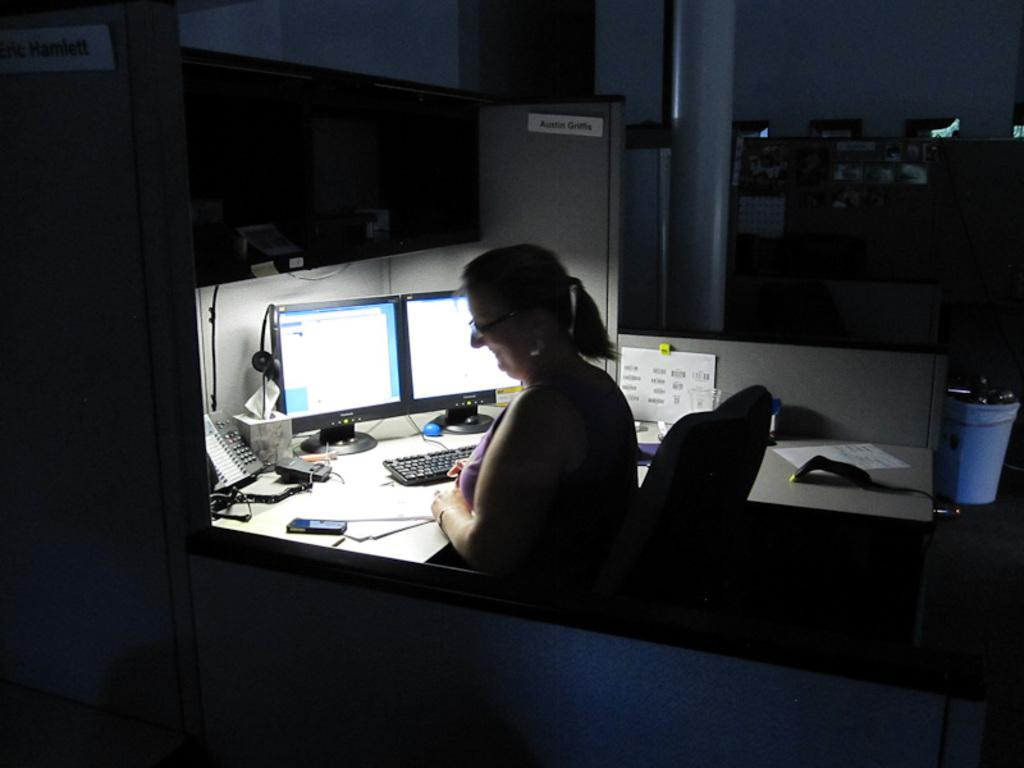Chair: (602, 383, 774, 606)
Computer-monitor: (264, 291, 408, 451)
